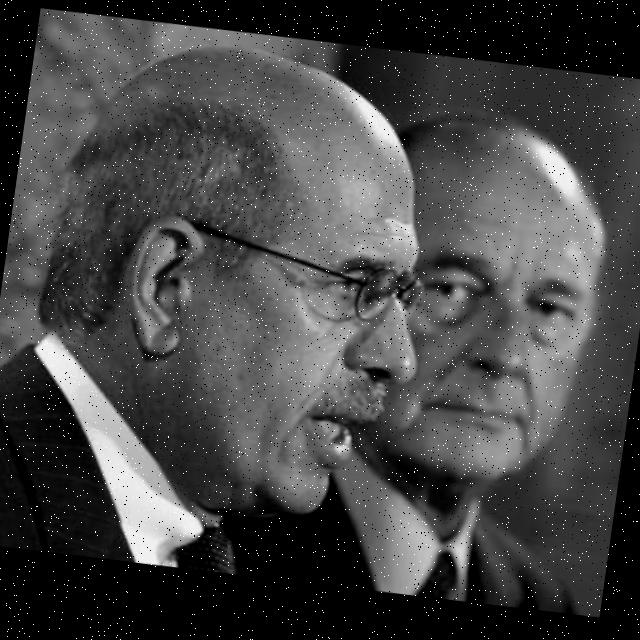face: (68, 55, 445, 520), (355, 112, 625, 516)
